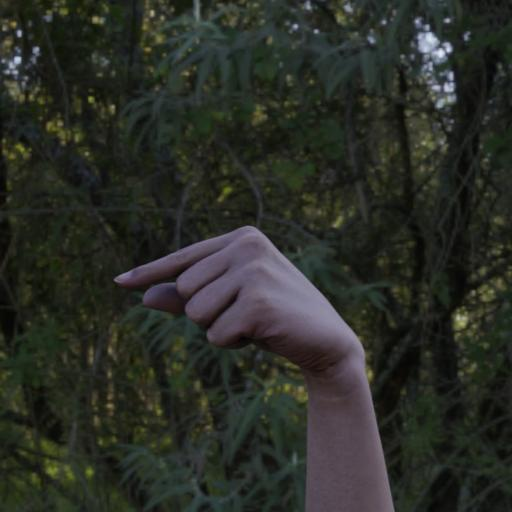G: (102, 205, 393, 414)
